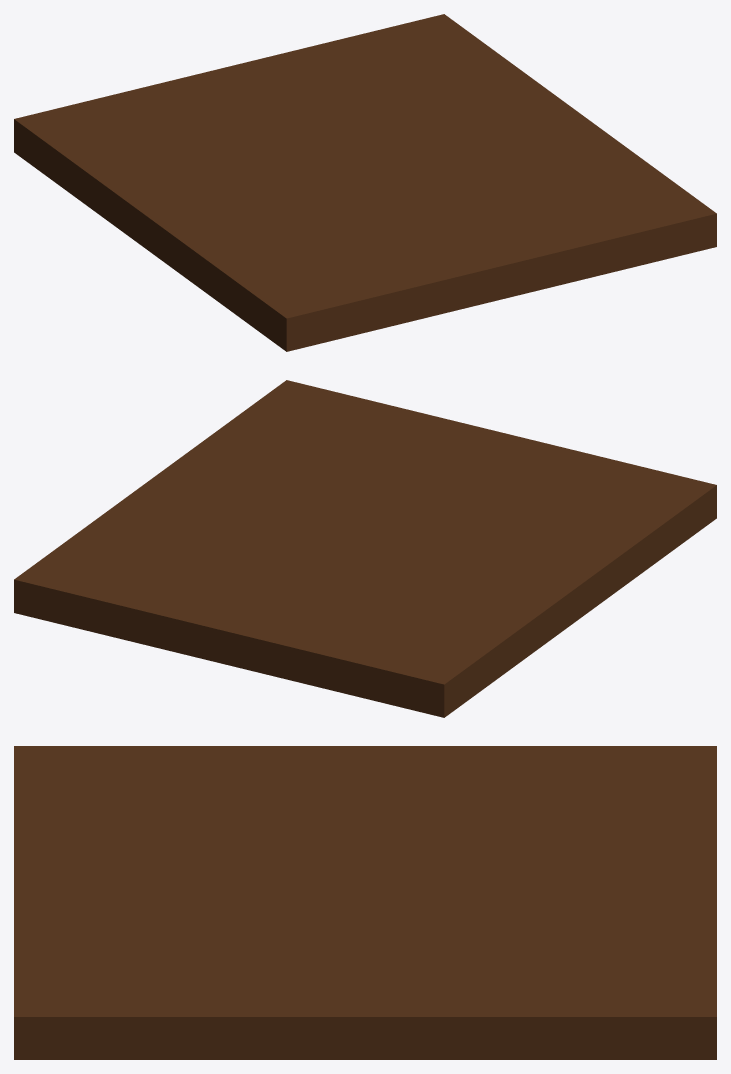
File: WoodFloor.fbx
The picture shows the model from 3 angles, top to bottom: view 1: azimuth 30°, elevation 25°; view 2: azimuth 150°, elevation 25°; view 3: azimuth 270°, elevation 25°; orthographic projection. The views are drawn at different scales.
Parts seen in each view (by area): view 1: WoodFloor; view 2: WoodFloor; view 3: WoodFloor.
Part boxes in pixels (x1=…): WoodFloor: x1=14, y1=14, x2=716, y2=351; WoodFloor: x1=14, y1=380, x2=716, y2=717; WoodFloor: x1=14, y1=746, x2=716, y2=1059.
Size of the model in its own units: 798 by 59.18 by 876.
